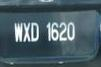0: (67, 21, 75, 41)
1: (46, 21, 52, 42)
2: (59, 21, 67, 42)
6: (51, 21, 59, 42)
D: (30, 21, 40, 43)
W: (14, 22, 23, 43)
X: (23, 22, 31, 44)
